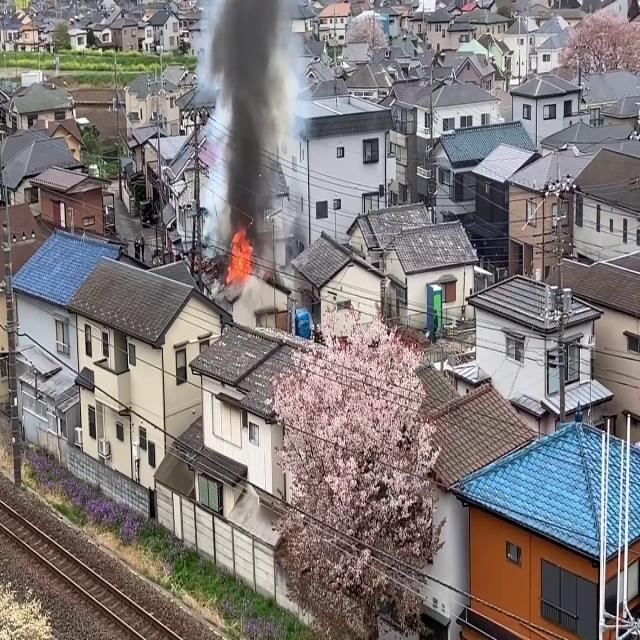Fire: (224, 223, 256, 290)
Smoke: (202, 0, 306, 254)
